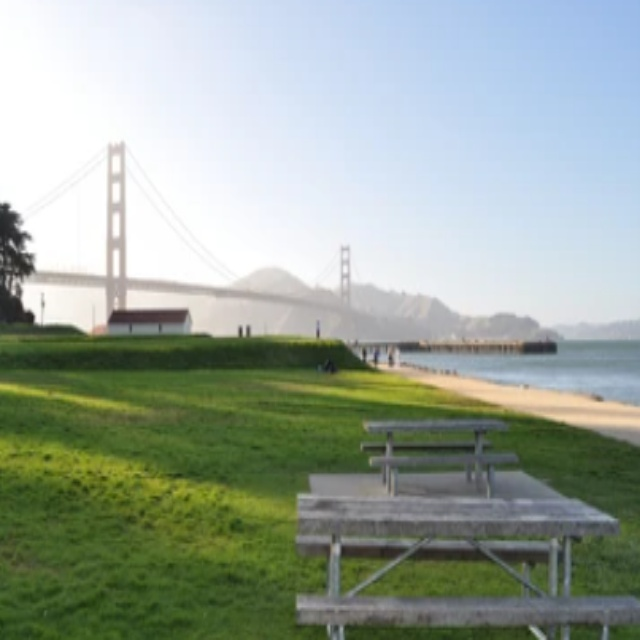obstacle: (278, 479, 637, 638), (357, 409, 521, 494)
